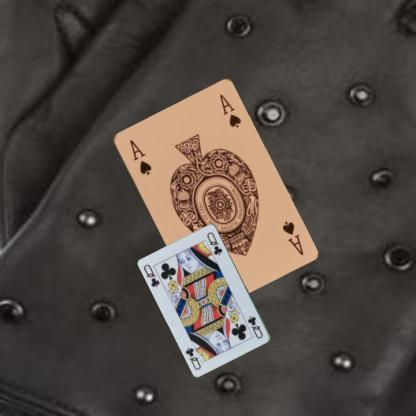As: (126, 136, 152, 176), (280, 218, 304, 256)
Qc: (141, 262, 161, 288), (245, 314, 264, 340)
